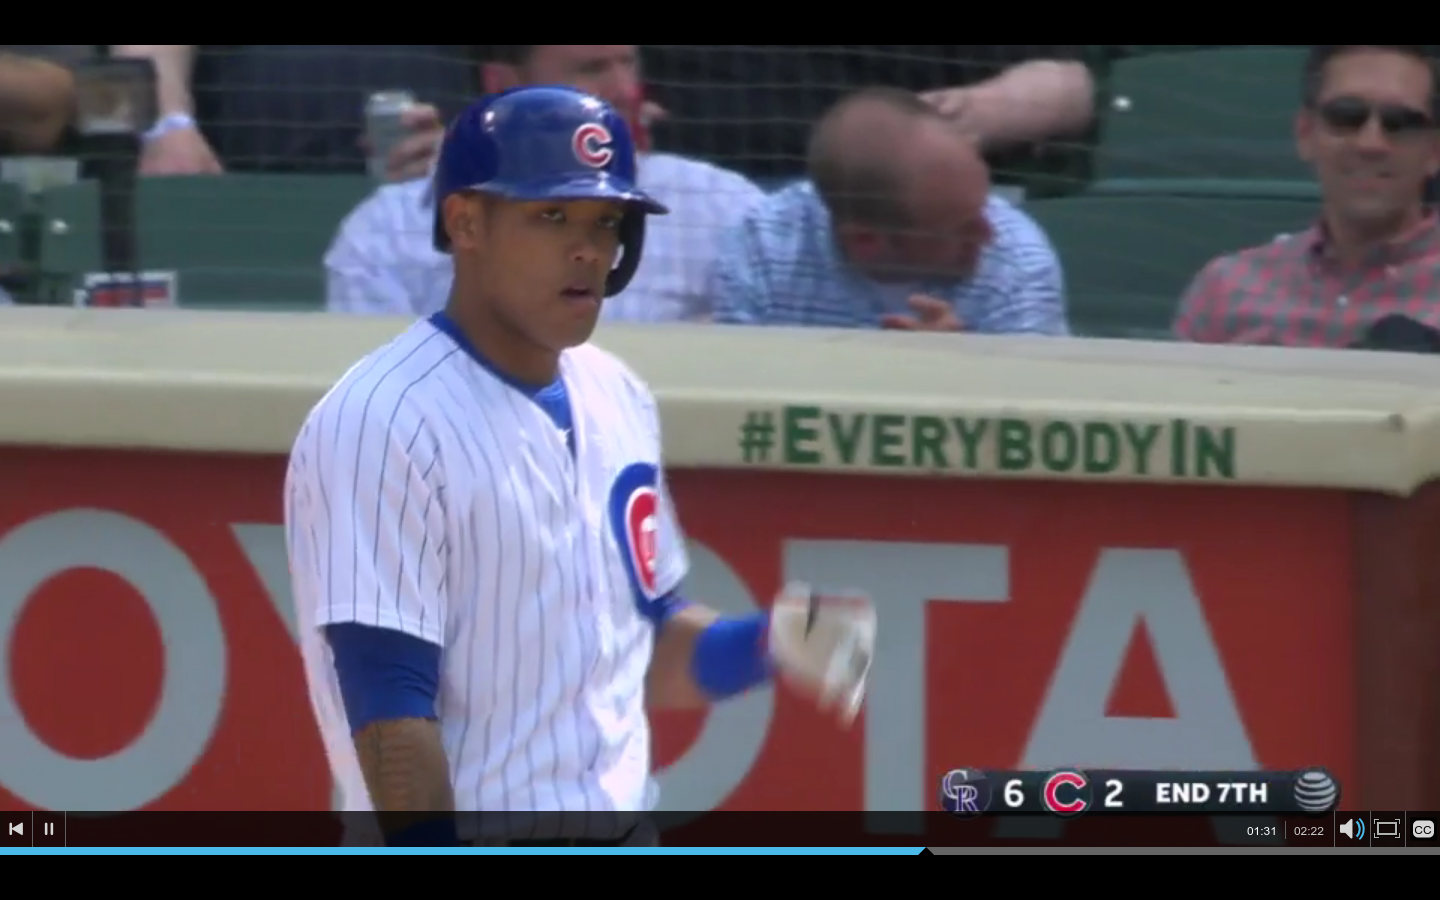baseball player: (268, 72, 887, 812)
